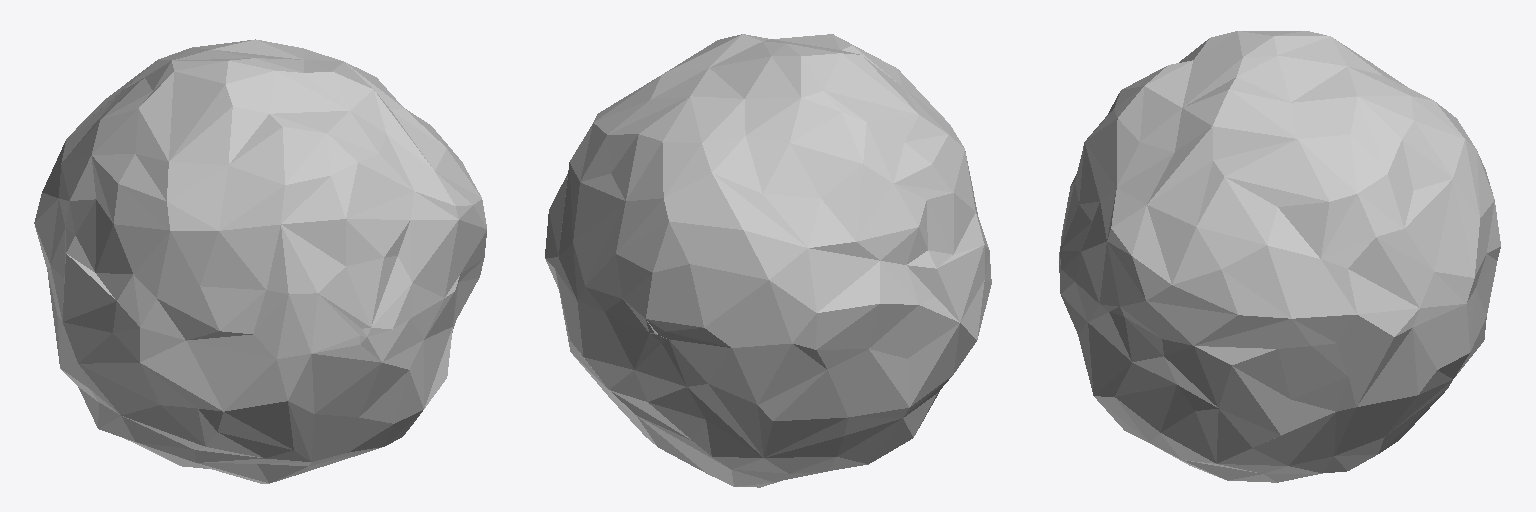
Rendered from dball500.obj.
3 views of the same model, side by side, from view 1: azimuth 30°, elevation 25°; view 2: azimuth 150°, elevation 25°; view 3: azimuth 270°, elevation 25° (orthographic).
Visible parts, largest first — view 1: Mesh; view 2: Mesh; view 3: Mesh.
Part boxes in pixels (left/top/right/bottom): Mesh: left=34, top=39, right=486, bottom=483; Mesh: left=545, top=34, right=991, bottom=487; Mesh: left=1059, top=31, right=1500, bottom=482.
Bounding box in the file's own units: 1.84 × 1.86 × 1.82.